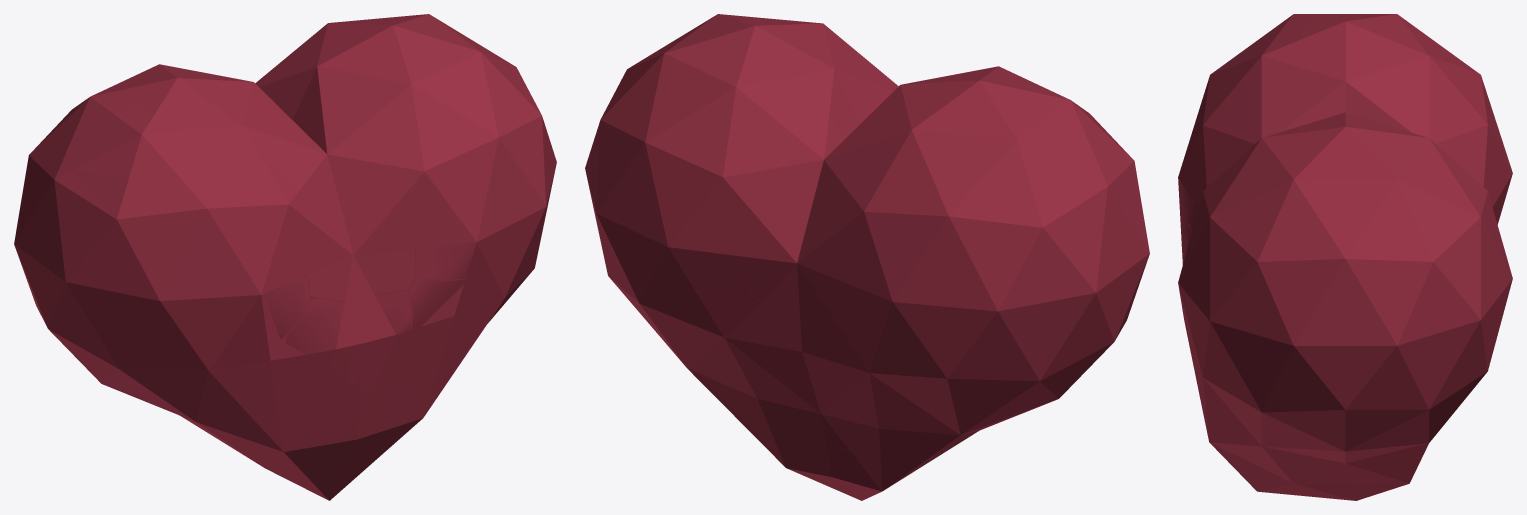
Rendered from heart.glb.
3 views of the same model, side by side, from view 1: azimuth 30°, elevation 25°; view 2: azimuth 150°, elevation 25°; view 3: azimuth 270°, elevation 25° (orthographic). The views are drawn at different scales.
Parts seen in each view (by area): view 1: origin, Heart_Full_cell.004, Heart_Full_cell.031, Heart_Full_cell.033, Heart_Full_cell.036, Heart_Full_cell.039, Heart_Full_cell.012, Heart_Full_cell.048, Heart_Full_cell.064, Heart_Full_cell.011, Heart_Full_cell.053, Heart_Full_cell.050 (+21 smaller); view 2: origin, Heart_Full_cell.043, Heart_Full_cell.008, Heart_Full_cell.060, Heart_Full_cell.010, Heart_Full_cell, Heart_Full_cell.037, Heart_Full_cell.056, Heart_Full_cell.035, Heart_Full_cell.016, Heart_Full_cell.047, Heart_Full_cell.042 (+18 smaller); view 3: origin, Heart_Full_cell.058, Heart_Full_cell.016, Heart_Full_cell.030, Heart_Full_cell.059, Heart_Full_cell.038, Heart_Full_cell.001, Heart_Full_cell.064, Heart_Full_cell.045, Heart_Full_cell.009, Heart_Full_cell.054, Heart_Full_cell.024 (+20 smaller).
Part boxes in pixels (x1=…): origin: x1=14, y1=18, x2=551, y2=500; Heart_Full_cell.004: x1=306, y1=198, x2=415, y2=301; Heart_Full_cell.031: x1=54, y1=170, x2=163, y2=271; Heart_Full_cell.033: x1=74, y1=104, x2=194, y2=183; Heart_Full_cell.036: x1=113, y1=247, x2=209, y2=338; Heart_Full_cell.039: x1=272, y1=298, x2=350, y2=445; Heart_Full_cell.012: x1=40, y1=203, x2=114, y2=329; Heart_Full_cell.048: x1=160, y1=157, x2=247, y2=266; Heart_Full_cell.064: x1=447, y1=63, x2=526, y2=193; Heart_Full_cell.011: x1=340, y1=290, x2=411, y2=429; Heart_Full_cell.053: x1=415, y1=186, x2=510, y2=280; Heart_Full_cell.050: x1=210, y1=242, x2=309, y2=339; origin: x1=587, y1=14, x2=1149, y2=500; Heart_Full_cell.043: x1=959, y1=102, x2=1082, y2=190; Heart_Full_cell.008: x1=682, y1=282, x2=770, y2=388; Heart_Full_cell.060: x1=762, y1=302, x2=883, y2=391; Heart_Full_cell.010: x1=1046, y1=237, x2=1122, y2=340; Heart_Full_cell: x1=632, y1=203, x2=733, y2=293; Heart_Full_cell.037: x1=998, y1=179, x2=1089, y2=281; Heart_Full_cell.056: x1=748, y1=377, x2=852, y2=450; Heart_Full_cell.035: x1=851, y1=262, x2=928, y2=377; Heart_Full_cell.016: x1=632, y1=22, x2=714, y2=102; Heart_Full_cell.047: x1=684, y1=60, x2=788, y2=136; Heart_Full_cell.042: x1=878, y1=106, x2=969, y2=172; origin: x1=1178, y1=14, x2=1506, y2=500; Heart_Full_cell.058: x1=1385, y1=216, x2=1460, y2=351; Heart_Full_cell.016: x1=1308, y1=150, x2=1437, y2=229; Heart_Full_cell.030: x1=1302, y1=189, x2=1388, y2=336; Heart_Full_cell.059: x1=1222, y1=180, x2=1305, y2=311; Heart_Full_cell.038: x1=1252, y1=292, x2=1352, y2=409; Heart_Full_cell.001: x1=1194, y1=268, x2=1254, y2=367; Heart_Full_cell.064: x1=1194, y1=178, x2=1282, y2=270; Heart_Full_cell.045: x1=1290, y1=42, x2=1386, y2=101; Heart_Full_cell.009: x1=1244, y1=463, x2=1369, y2=493; Heart_Full_cell.054: x1=1298, y1=413, x2=1387, y2=457; Heart_Full_cell.024: x1=1346, y1=351, x2=1454, y2=428.
Size of the model in its own units: 0.9714 by 0.8057 by 0.5728.
